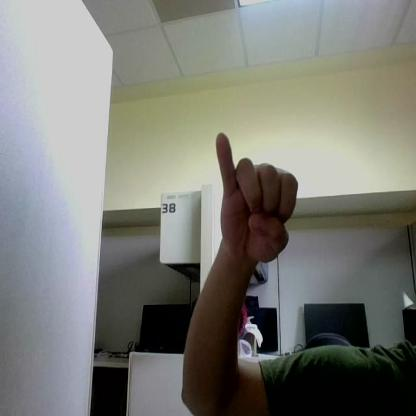I: (216, 134, 298, 264)
